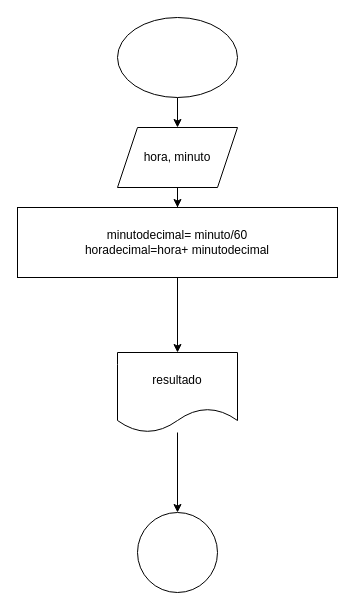
This 355x610 diagram has some shape labels left out. Each missing label, with the centre of its shape:
"fim" belongs at point (177, 552).
"inicio" belongs at point (177, 57).
